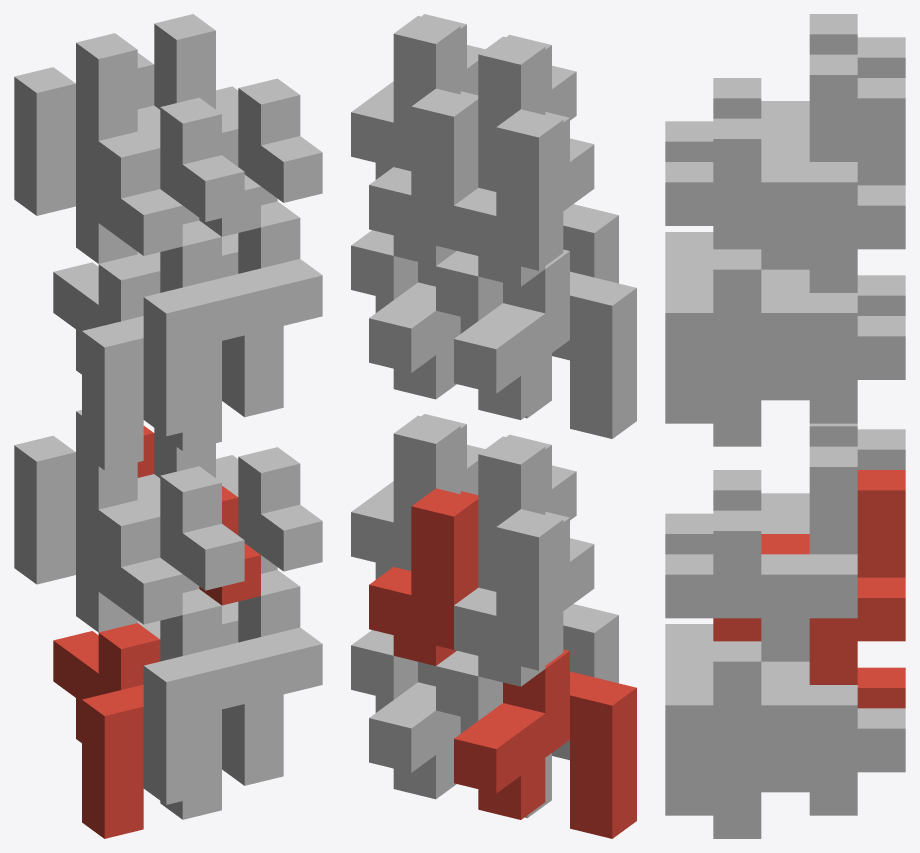
The model's file is tiling.obj.
The picture shows the model from 3 angles, left to right: view 1: azimuth 30°, elevation 25°; view 2: azimuth 150°, elevation 25°; view 3: azimuth 270°, elevation 25°; orthographic projection. The views are drawn at different scales.
Visible parts, largest first — view 1: copy_2_domain_1, copy_2_domain_3, copy_2_domain_4, copy_1_domain_1, copy_1_domain_3, copy_1_domain_4, copy_1_domain_2, copy_2_domain_8, copy_1_domain_6, copy_1_domain_8, copy_2_domain_2, copy_2_domain_6 (+4 smaller); view 2: copy_1_domain_1, copy_1_domain_3, copy_2_domain_1, copy_2_domain_3, copy_2_domain_7, copy_2_domain_5, copy_2_domain_6, copy_2_domain_8, copy_1_domain_7, copy_1_domain_5, copy_2_domain_2, copy_2_domain_4 (+4 smaller); view 3: copy_2_domain_6, copy_2_domain_8, copy_1_domain_6, copy_1_domain_8, copy_2_domain_5, copy_2_domain_7, copy_1_domain_7, copy_1_domain_5, copy_2_domain_4, copy_2_domain_2, copy_2_domain_1, copy_2_domain_3 (+4 smaller).
Part boxes in pixels (x1,y1,x2,y2): copy_2_domain_1: (14, 435, 182, 632); copy_2_domain_3: (14, 67, 182, 263); copy_2_domain_4: (76, 33, 244, 224); copy_1_domain_1: (53, 623, 160, 838); copy_1_domain_3: (53, 254, 160, 470); copy_1_domain_4: (137, 220, 244, 436); copy_1_domain_2: (137, 589, 244, 804); copy_2_domain_8: (154, 14, 322, 205); copy_1_domain_6: (222, 570, 322, 785); copy_1_domain_8: (222, 201, 322, 417); copy_2_domain_2: (76, 410, 244, 592); copy_2_domain_6: (154, 428, 322, 573); copy_1_domain_1: (454, 649, 636, 838); copy_1_domain_3: (454, 249, 636, 438); copy_2_domain_1: (454, 509, 594, 686); copy_2_domain_3: (454, 109, 594, 286); copy_2_domain_7: (369, 88, 478, 265); copy_2_domain_5: (369, 488, 478, 665); copy_2_domain_6: (351, 414, 484, 579); copy_2_domain_8: (351, 14, 484, 179); copy_1_domain_7: (369, 262, 551, 418); copy_1_domain_5: (369, 661, 551, 818); copy_2_domain_2: (478, 434, 576, 591); copy_2_domain_4: (478, 34, 576, 191); copy_2_domain_6: (665, 446, 857, 661); copy_2_domain_8: (665, 54, 857, 269); copy_1_domain_6: (665, 641, 857, 815); copy_1_domain_8: (665, 249, 857, 423); copy_2_domain_5: (713, 470, 905, 684); copy_2_domain_7: (713, 78, 905, 292); copy_1_domain_7: (713, 272, 905, 446); copy_1_domain_5: (713, 664, 905, 838); copy_2_domain_4: (665, 14, 857, 161); copy_2_domain_2: (665, 423, 857, 554); copy_2_domain_1: (761, 429, 905, 513); copy_2_domain_3: (761, 37, 905, 121).
Bounding box in the file's own units: 5 × 18 × 5.
